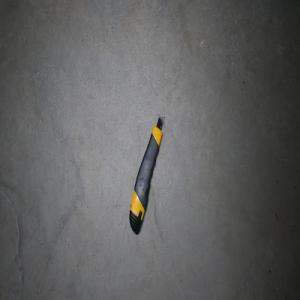Cutter: (128, 114, 163, 233)
